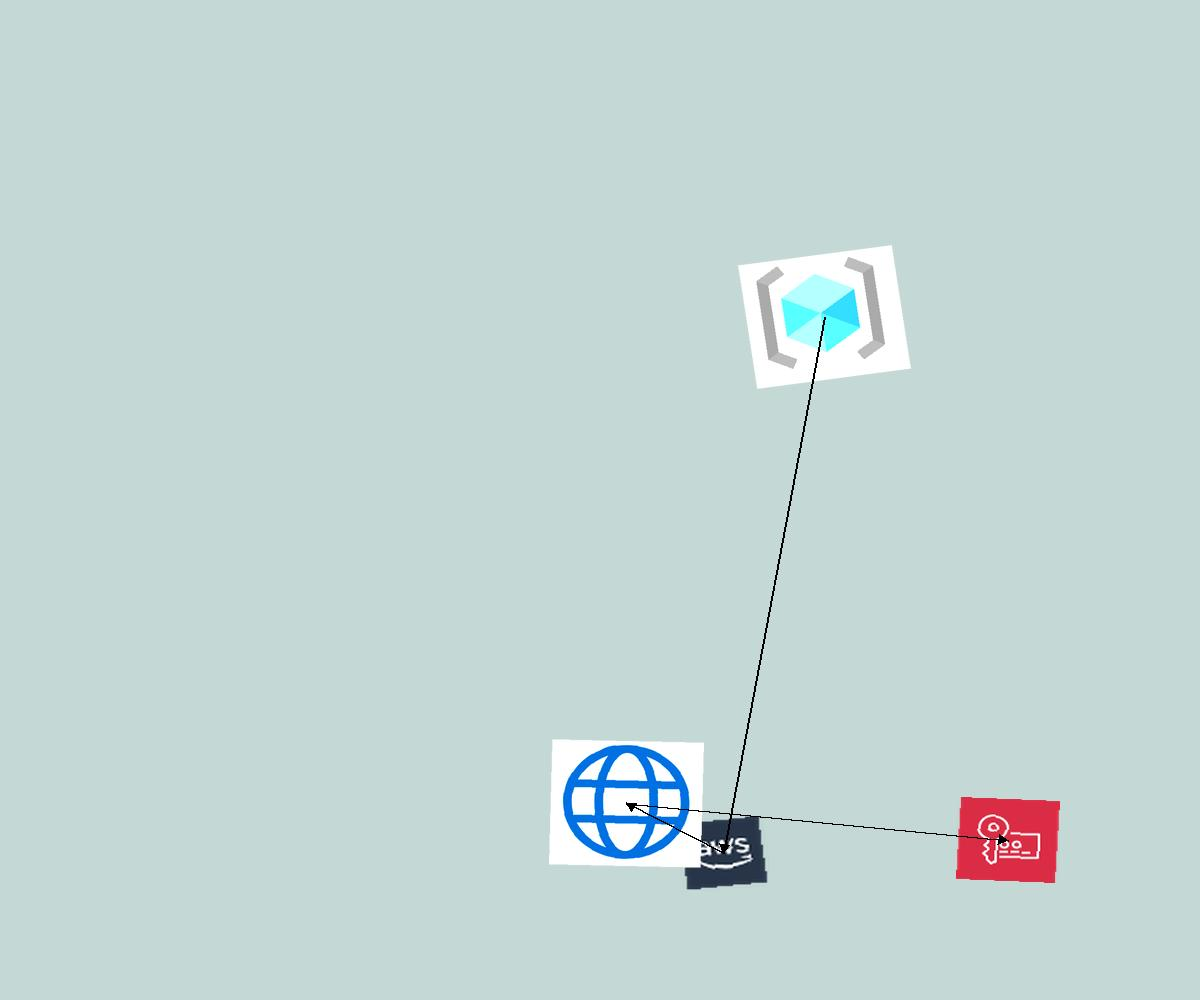AWS-Cloud-logo: (677, 815, 769, 891)
AWS-Key-Management-Service: (956, 797, 1060, 883)
Azure_http: (549, 739, 704, 868)
Azure_resource_group: (738, 245, 911, 389)
